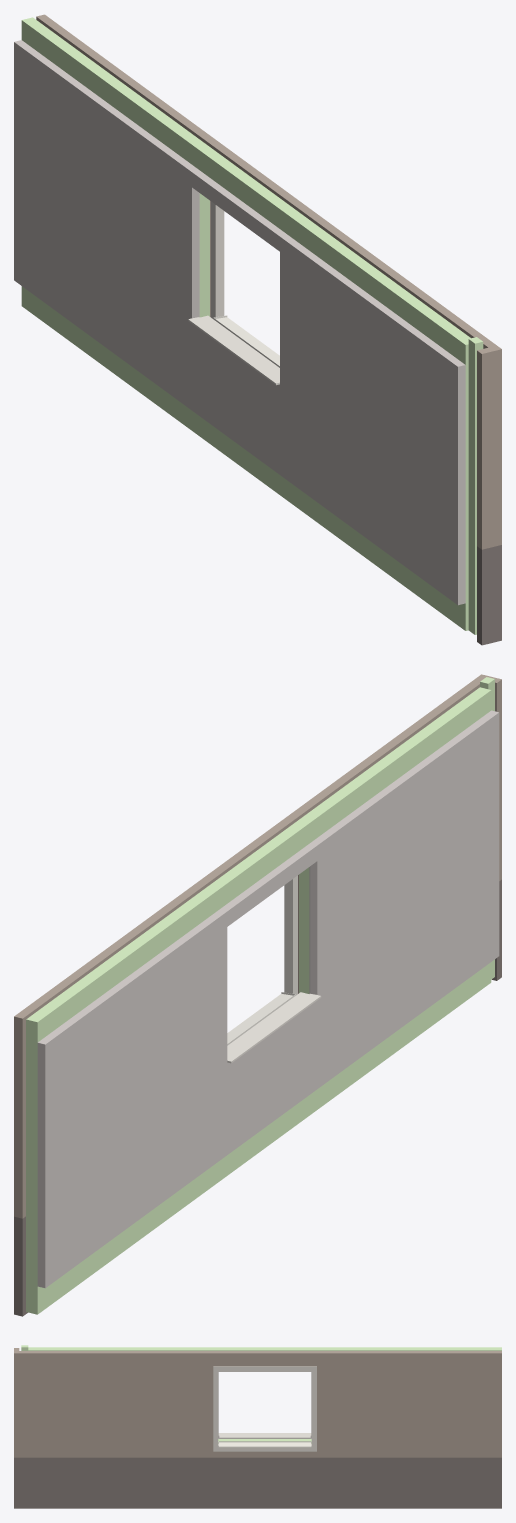
3 views of the same model, one above another, from view 1: azimuth 30°, elevation 25°; view 2: azimuth 150°, elevation 25°; view 3: azimuth 270°, elevation 25° (orthographic). The views are drawn at different scales.
Visible parts, largest first — view 1: [8714982]21_prefab betonwand 90mm, [8714984]21_isolatie 131mm, [8714762]21_Metselwerk Sonsbeek 100mm, Aberson 48N13, [8714763]21_Metselwerk Sonsbeek 100mm, Aberson 48N13, [8714985]21_isolatie 131mm, [8714791]21_Metselwerk Hadsund 100mm, Aberson 48N45, [8714989]Merk C_Ventserbank, [8714797]21_Metselwerk Wit HV WF 100mm, Aberson 35N17, [8714988]Merk C_Waterslag; view 2: [8714982]21_prefab betonwand 90mm, [8714984]21_isolatie 131mm, [8714762]21_Metselwerk Sonsbeek 100mm, Aberson 48N13, [8714989]Merk C_Ventserbank, [8714796]21_Metselwerk Wit HV WF 100mm, Aberson 35N17, [8714778]21_Metselwerk Hadsund 100mm, Aberson 48N45, [8714988]Merk C_Waterslag, [8714763]21_Metselwerk Sonsbeek 100mm, Aberson 48N13; view 3: [8714762]21_Metselwerk Sonsbeek 100mm, Aberson 48N13, [8714778]21_Metselwerk Hadsund 100mm, Aberson 48N45, [8714984]21_isolatie 131mm, [8714763]21_Metselwerk Sonsbeek 100mm, Aberson 48N13, [8714988]Merk C_Waterslag, [8714795]21_Metselwerk Wit HV WF 100mm, Aberson 35N17 Rollaa, [8714989]Merk C_Ventserbank, [8714796]21_Metselwerk Wit HV WF 100mm, Aberson 35N17, [8714797]21_Metselwerk Wit HV WF 100mm, Aberson 35N17, [8714794]21_Metselwerk Wit HV WF 100mm, Aberson 35N17 Rollaa, [8714791]21_Metselwerk Hadsund 100mm, Aberson 48N45, [8714982]21_prefab betonwand 90mm.
Part boxes in pixels (x1,y1,x2,y2): [8714982]21_prefab betonwand 90mm: (14,40,465,605); [8714984]21_isolatie 131mm: (21,17,470,630); [8714762]21_Metselwerk Sonsbeek 100mm, Aberson 48N13: (36,14,496,348); [8714763]21_Metselwerk Sonsbeek 100mm, Aberson 48N13: (477,345,501,549); [8714985]21_isolatie 131mm: (468,337,483,634); [8714791]21_Metselwerk Hadsund 100mm, Aberson 48N45: (477,545,501,645); [8714989]Merk C_Ventserbank: (188,315,279,385); [8714797]21_Metselwerk Wit HV WF 100mm, Aberson 35N17: (210,201,224,317); [8714988]Merk C_Waterslag: (213,315,279,367); [8714982]21_prefab betonwand 90mm: (37,710,499,1288); [8714984]21_isolatie 131mm: (26,687,491,1314); [8714762]21_Metselwerk Sonsbeek 100mm, Aberson 48N13: (14,678,482,1218); [8714989]Merk C_Ventserbank: (227,992,321,1063); [8714796]21_Metselwerk Wit HV WF 100mm, Aberson 35N17: (284,875,297,994); [8714778]21_Metselwerk Hadsund 100mm, Aberson 48N45: (14,1216,27,1316); [8714988]Merk C_Waterslag: (227,992,295,1045); [8714763]21_Metselwerk Sonsbeek 100mm, Aberson 48N13: (477,674,501,880); [8714762]21_Metselwerk Sonsbeek 100mm, Aberson 48N13: (19,1351,501,1457); [8714778]21_Metselwerk Hadsund 100mm, Aberson 48N45: (19,1457,501,1508); [8714984]21_isolatie 131mm: (28,1347,501,1443); [8714763]21_Metselwerk Sonsbeek 100mm, Aberson 48N13: (14,1348,19,1457); [8714988]Merk C_Waterslag: (218,1441,311,1447); [8714795]21_Metselwerk Wit HV WF 100mm, Aberson 35N17 Rollaa: (213,1366,316,1371); [8714989]Merk C_Ventserbank: (218,1433,311,1438); [8714796]21_Metselwerk Wit HV WF 100mm, Aberson 35N17: (213,1372,218,1446); [8714797]21_Metselwerk Wit HV WF 100mm, Aberson 35N17: (311,1372,316,1446); [8714794]21_Metselwerk Wit HV WF 100mm, Aberson 35N17 Rollaa: (213,1444,316,1451); [8714791]21_Metselwerk Hadsund 100mm, Aberson 48N45: (14,1457,19,1508); [8714982]21_prefab betonwand 90mm: (218,1372,311,1438).
Bounding box in the file's own units: 0.45 × 3.32 × 9.27.
